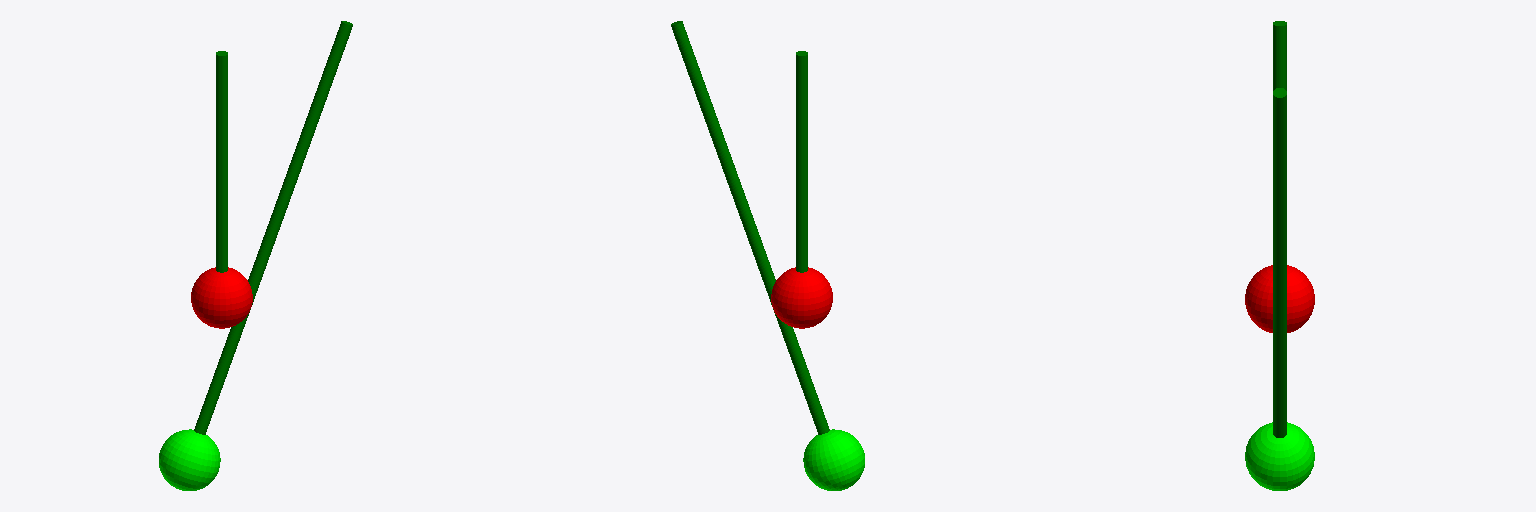
URDF robot description (straw_cluster7):
<?xml version="1.0" ?>
<!-- =================================================================================== -->
<!-- |    This document was autogenerated by xacro from cluster7_extras.xacro          | -->
<!-- |    EDITING THIS FILE BY HAND IS NOT RECOMMENDED                                 | -->
<!-- =================================================================================== -->
<robot name="straw_cluster7" xmlns:xacro="http://www.ros.org/wiki/xacro">
  <link name="world"/>
  <!-- Robot19 -->
  <link name="/yball_stem71">
    <gravity>1</gravity>
    <inertial>
      <origin rpy="0 0 0" xyz="0 0 0"/>
      <mass value=".00001"/>
      <inertia ixx="0.0000004" ixy="0.0" ixz="0.0" iyy="0.0000004" iyz="0.0" izz="0.0000004"/>
    </inertial>
    <visual>
      <geometry>
        <sphere radius=".00001"/>
      </geometry>
    </visual>
    <collision>
      <geometry>
        <sphere radius=".00001"/>
      </geometry>
    </collision>
  </link>
  <gazebo reference="/yball_stem71">
    <material>Gazebo/Green</material>
  </gazebo>
  <joint name="/stem71y" type="revolute">
    <parent link="world"/>
    <child link="/yball_stem71"/>
    <origin rpy="0 0 0" xyz="0.15 -0.95 1.19"/>
    <!-- <origin xyz="0 0.06 1.19" rpy="0 0 0"/> in case of reference /base_link -->
    <axis xyz="0 1 0"/>
    <dynamics damping="0.0001" friction="0.0002"/>
    <limit effort="0.1" lower="-3.14159265359" upper="3.14159265359" velocity="1"/>
  </joint>
  <link name="/xball_stem71">
    <gravity>1</gravity>
    <inertial>
      <origin rpy="0 0 0" xyz="0 0 0"/>
      <mass value=".00001"/>
      <inertia ixx="0.0000004" ixy="0.0" ixz="0.0" iyy="0.0000004" iyz="0.0" izz="0.0000004"/>
    </inertial>
    <visual>
      <geometry>
        <sphere radius=".00001"/>
      </geometry>
    </visual>
    <collision>
      <geometry>
        <sphere radius=".00001"/>
      </geometry>
    </collision>
  </link>
  <gazebo reference="/xball_stem71">
    <material>Gazebo/Green</material>
  </gazebo>
  <joint name="/stem71x" type="revolute">
    <parent link="/yball_stem71"/>
    <child link="/xball_stem71"/>
    <origin rpy="0 0 0" xyz="0 0 0"/>
    <axis xyz="1 0 0"/>
    <dynamics damping="0.0001" friction="0.0002"/>
    <limit effort="0.1" lower="-3.14159265359" upper="3.14159265359" velocity="1"/>
  </joint>
  <!-- Define stem of straw71 -->
  <link name="/stem71">
    <inertial>
      <origin rpy="0 0 0" xyz="0 0 0"/>
      <mass value="0.0002"/>
      <inertia ixx="0.0000000005" ixy="0.0" ixz="0.0" iyy="0.0000000005" iyz="0.0" izz="0.0000000005"/>
    </inertial>
    <collision>
      <geometry>
        <cylinder length="0.1" radius="0.003"/>
      </geometry>
      <material name="green">
        <color rgba="0 0.501960784314 0 1"/>
      </material>
      <origin rpy="0 0 0" xyz="0 0 -0.065"/>
    </collision>
    <visual>
      <geometry>
        <cylinder length="0.13" radius="0.003"/>
      </geometry>
      <material name="green">
        <color rgba="0 0.501960784314 0 1"/>
      </material>
      <origin rpy="0 0 0" xyz="0 0 -0.065"/>
    </visual>
  </link>
  <gazebo reference="/stem71">
    <mu1>0.01</mu1>
    <mu2>0.01</mu2>
    <selfCollide>true</selfCollide>
    <maxContacts>2</maxContacts>
    <minDepth>0</minDepth>
    <maxVel>0.01</maxVel>
    <kp value="1"/>
    <kd value="0.01"/>
    <material>Gazebo/Green</material>
  </gazebo>
  <joint name="/xball_stem71" type="fixed">
    <parent link="/xball_stem71"/>
    <child link="/stem71"/>
    <origin rpy="0 0 0" xyz="0 0 0"/>
  </joint>
  <!-- Define straw71 -->
  <link name="/straw71">
    <gravity>1</gravity>
    <inertial>
      <origin rpy="0 0 0" xyz="0 0 0"/>
      <mass value="0.0002"/>
      <inertia ixx="0.00000018" ixy="0.0" ixz="0.0" iyy="0.00000018" iyz="0.0" izz="0.00000018"/>
    </inertial>
    <collision>
      <geometry>
        <sphere radius="0.015"/>
      </geometry>
    </collision>
    <visual>
      <geometry>
        <sphere radius="0.015"/>
      </geometry>
      <material name="Red">
        <color rgba="1 0 0 1"/>
      </material>
    </visual>
  </link>
  <gazebo reference="/straw71">
    <mu1>0.01</mu1>
    <mu2>0.01</mu2>
    <selfCollide>true</selfCollide>
    <maxContacts>2</maxContacts>
    <minDepth>0</minDepth>
    <maxVel>0.01</maxVel>
    <kp value="1"/>
    <kd value="0.01"/>
    <material>Gazebo/Red</material>
  </gazebo>
  <joint name="/straw71_stem71" type="revolute">
    <parent link="/stem71"/>
    <child link="/straw71"/>
    <origin rpy="0 0 0" xyz="0 0 -0.13"/>
    <axis xyz="0 1 0"/>
    <dynamics damping="0.0000001" friction="0.0000002"/>
    <limit effort="0.01" lower="-3.14159265359" upper="3.14159265359" velocity="0.1"/>
  </joint>
  <!-- Robot20 -->
  <link name="/yball_stem72">
    <gravity>1</gravity>
    <inertial>
      <origin rpy="0 0 0" xyz="0 0 0"/>
      <mass value=".00001"/>
      <inertia ixx="0.00001" ixy="0.0" ixz="0.0" iyy="0.00001" iyz="0.0" izz="0.00001"/>
    </inertial>
    <visual>
      <geometry>
        <sphere radius=".00001"/>
      </geometry>
    </visual>
    <collision>
      <geometry>
        <sphere radius=".00001"/>
      </geometry>
    </collision>
  </link>
  <gazebo reference="/yball_stem72">
    <material>Gazebo/Green</material>
  </gazebo>
  <joint name="/stem72y" type="revolute">
    <parent link="world"/>
    <child link="/yball_stem72"/>
    <origin rpy="0 0.392699081699 0" xyz="0.22 -0.95 1.19"/>
    <!-- <origin xyz="-0.03 0.06 1.21" rpy="0 0 0"/> in case of /base_link as reference frame -->
    <axis xyz="0 1 0"/>
    <dynamics damping="0.0001" friction="0.0002"/>
    <!-- <dynamics damping="0.0001" friction="0.0002"/> -->
    <limit effort="100" lower="-3.14159265359" upper="3.14159265359" velocity="1"/>
  </joint>
  <link name="/xball_stem72">
    <gravity>1</gravity>
    <inertial>
      <origin rpy="0 0 0" xyz="0 0 0"/>
      <mass value=".00001"/>
      <inertia ixx="0.00001" ixy="0.0" ixz="0.0" iyy="0.00001" iyz="0.0" izz="0.00001"/>
    </inertial>
    <visual>
      <geometry>
        <sphere radius=".00001"/>
      </geometry>
    </visual>
    <collision>
      <geometry>
        <sphere radius=".00001"/>
      </geometry>
    </collision>
  </link>
  <gazebo reference="/xball_stem72">
    <material>Gazebo/Green</material>
  </gazebo>
  <joint name="/stem72x" type="revolute">
    <parent link="/yball_stem72"/>
    <child link="/xball_stem72"/>
    <origin rpy="0 0 0" xyz="0 0 0"/>
    <axis xyz="1 0 0"/>
    <dynamics damping="0.0001" friction="0.0002"/>
    <!-- <dynamics damping="100" friction="[number redacted]" /> -->
    <limit effort="100" lower="-3.14159265359" upper="3.14159265359" velocity="1"/>
  </joint>
  <!-- Define stem of straw72 -->
  <link name="/stem72">
    <gravity>1</gravity>
    <inertial>
      <origin rpy="0 0 0" xyz="0 0 0"/>
      <mass value="0.0001"/>
      <inertia ixx="0.0000000005" ixy="0.0" ixz="0.0" iyy="0.0000000005" iyz="0.0" izz="0.0000000005"/>
    </inertial>
    <collision>
      <geometry>
        <cylinder length="0.23" radius="0.003"/>
        <!-- was 0.15 -->
      </geometry>
      <material name="green">
        <color rgba="0 0.501960784314 0 1"/>
      </material>
      <origin rpy="0 0 0" xyz="0 0 -0.115"/>
    </collision>
    <visual>
      <geometry>
        <cylinder length="0.23" radius="0.003"/>
      </geometry>
      <material name="green">
        <color rgba="0 0.501960784314 0 1"/>
      </material>
      <origin rpy="0 0 0" xyz="0 0 -0.115"/>
    </visual>
  </link>
  <gazebo reference="/stem72">
    <mu1>0.01</mu1>
    <mu2>0.01</mu2>
    <selfCollide>true</selfCollide>
    <maxContacts>2</maxContacts>
    <minDepth>0</minDepth>
    <maxVel>0.01</maxVel>
    <kp value="1000"/>
    <kd value="1"/>
    <material>Gazebo/Green</material>
  </gazebo>
  <joint name="/xball_stem72" type="fixed">
    <parent link="/xball_stem72"/>
    <child link="/stem72"/>
    <origin rpy="0 0 0" xyz="0 0 0"/>
  </joint>
  <!-- Define straw72 -->
  <link name="/straw72">
    <gravity>1</gravity>
    <inertial>
      <origin rpy="0 0 0" xyz="0 0 0"/>
      <mass value="0.0002"/>
      <inertia ixx="0.00000018" ixy="0.0" ixz="0.0" iyy="0.00000018" iyz="0.0" izz="0.00000018"/>
    </inertial>
    <collision>
      <geometry>
        <sphere radius="0.015"/>
      </geometry>
    </collision>
    <visual>
      <geometry>
        <sphere radius="0.015"/>
      </geometry>
      <material name="green">
        <color rgba="0 1 0 1"/>
      </material>
    </visual>
  </link>
  <gazebo reference="/straw72">
    <mu1>0.01</mu1>
    <mu2>0.01</mu2>
    <selfCollide>true</selfCollide>
    <maxContacts>2</maxContacts>
    <minDepth>0</minDepth>
    <maxVel>0.01</maxVel>
    <kp value="1000"/>
    <kd value="1"/>
    <material>Gazebo/Green</material>
  </gazebo>
  <!--<joint name="$(arg tf_prefix)/straw72_stem72" type="fixed"> 
  <parent link="$(arg tf_prefix)/stem72"/>
  <child link="$(arg tf_prefix)/straw72"/>
  <origin xyz="0 0 -0.23" rpy="0 0 0"/> 
</joint> -->
  <joint name="/straw72_stem72" type="revolute">
    <parent link="/stem72"/>
    <child link="/straw72"/>
    <origin rpy="0 0 0" xyz="0 0 -0.23"/>
    <axis xyz="0 1 0"/>
    <dynamics damping="0.0000001" friction="0.0000002"/>
    <!-- <dynamics damping="100" friction="[number redacted]" /> -->
    <limit effort="0.01" lower="-3.14159265359" upper="3.14159265359" velocity="0.1"/>
  </joint>
  <gazebo>
    <plugin filename="libgazebo_ros_control.so" name="gazebo_ros_control">
      <robotSimType>gazebo_ros_control/DefaultRobotHWSim</robotSimType>
      <legacyModeNS>true</legacyModeNS>
      <robotNamespace>/straw_cluster7</robotNamespace>
    </plugin>
  </gazebo>
</robot>

--- Render facts (derived) ---
3 views of the same robot in one strip: view 1: azimuth 30°, elevation 25°; view 2: azimuth 150°, elevation 25°; view 3: azimuth 270°, elevation 25° (orthographic).
Robot: straw_cluster7 — 9 links, 8 joints (6 revolute, 2 fixed); root link world; default pose: every joint at zero.
Links seen in each view (by area): view 1: /stem72, /straw72, /straw71, /stem71; view 2: /stem72, /straw72, /straw71, /stem71; view 3: /stem72, /straw72, /straw71, /stem71.
Boxes of the visible links, bbox=[...] form: /stem72: bbox=[194, 21, 352, 434]; /straw72: bbox=[159, 429, 220, 490]; /straw71: bbox=[191, 267, 252, 328]; /stem71: bbox=[216, 51, 227, 272]; /stem72: bbox=[671, 21, 829, 434]; /straw72: bbox=[803, 429, 864, 490]; /straw71: bbox=[771, 267, 832, 328]; /stem71: bbox=[796, 51, 807, 272]; /stem72: bbox=[1273, 88, 1286, 437]; /straw72: bbox=[1245, 422, 1314, 490]; /straw71: bbox=[1245, 265, 1314, 332]; /stem71: bbox=[1273, 21, 1286, 90].
Size in the robot's own frame: 0.1058 by 0.03 by 0.2286 metres.
Geometry: primitives only (box / cylinder / sphere), no mesh files.
